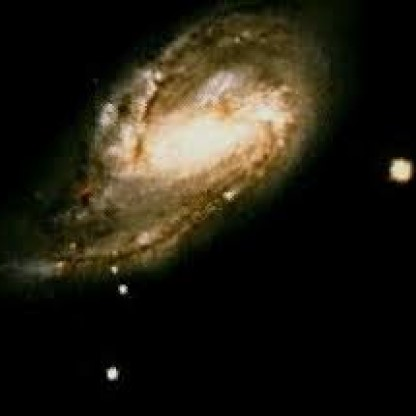Messier 66: (18, 6, 416, 328)
